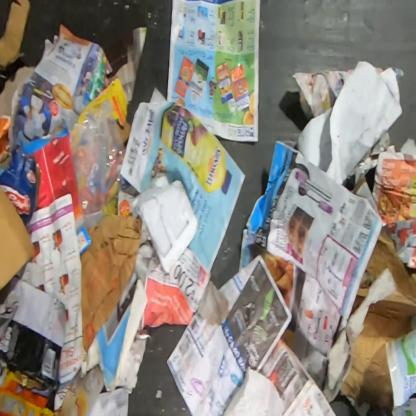cardboard: (339, 225, 415, 413), (31, 132, 79, 212), (0, 186, 36, 292), (0, 143, 40, 226), (0, 366, 55, 415), (0, 0, 32, 67)
soft_plastic: (69, 98, 127, 214)
